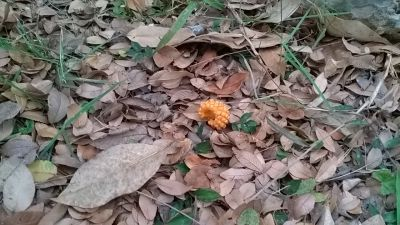eggs: (197, 99, 230, 130)
